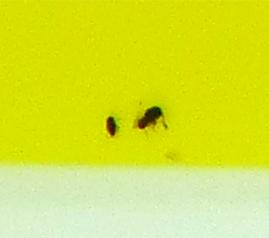Brachycera: (100, 111, 121, 138)
Hymenoptera: (131, 100, 169, 132)
